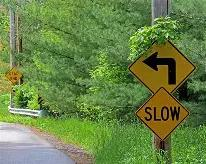Slow: (138, 89, 187, 139), (5, 68, 21, 83)
